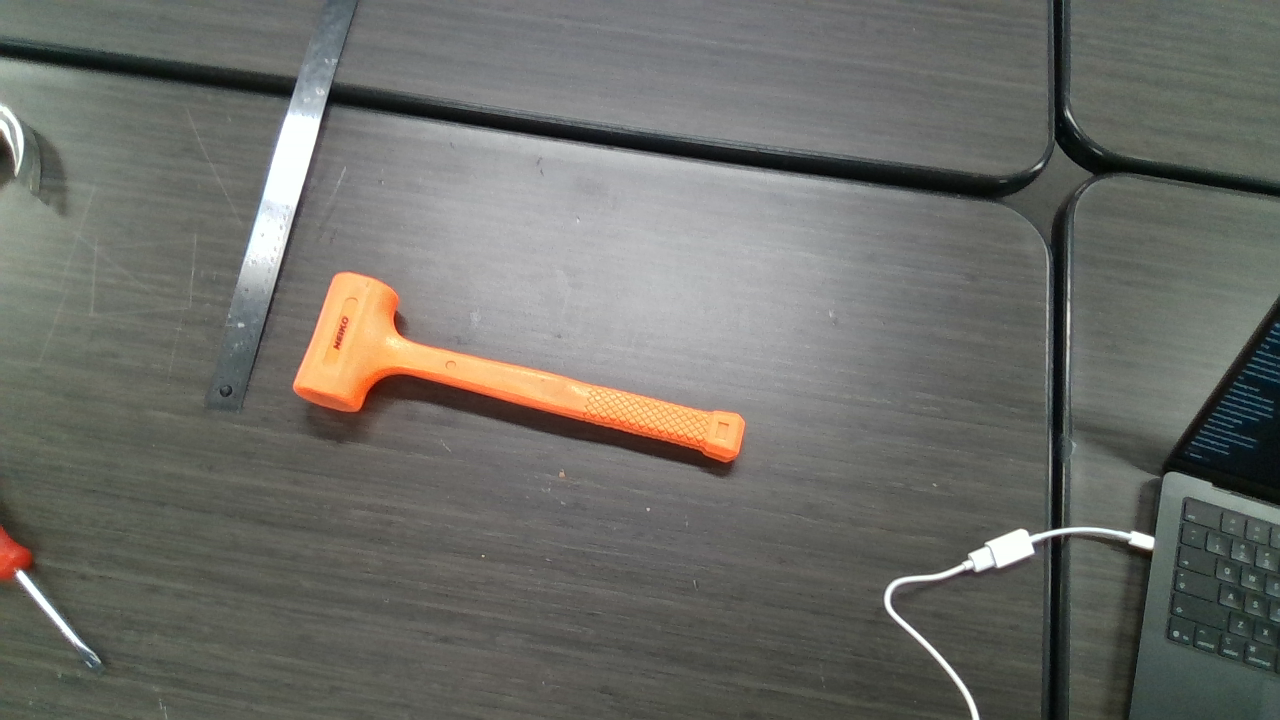Orange Hammer: (303, 272, 749, 463)
